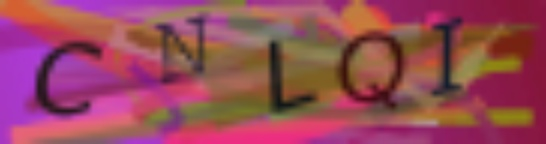C: (32, 38, 104, 117)
I: (426, 14, 470, 98)
L: (263, 35, 323, 117)
N: (155, 14, 210, 87)
Q: (335, 27, 409, 112)
